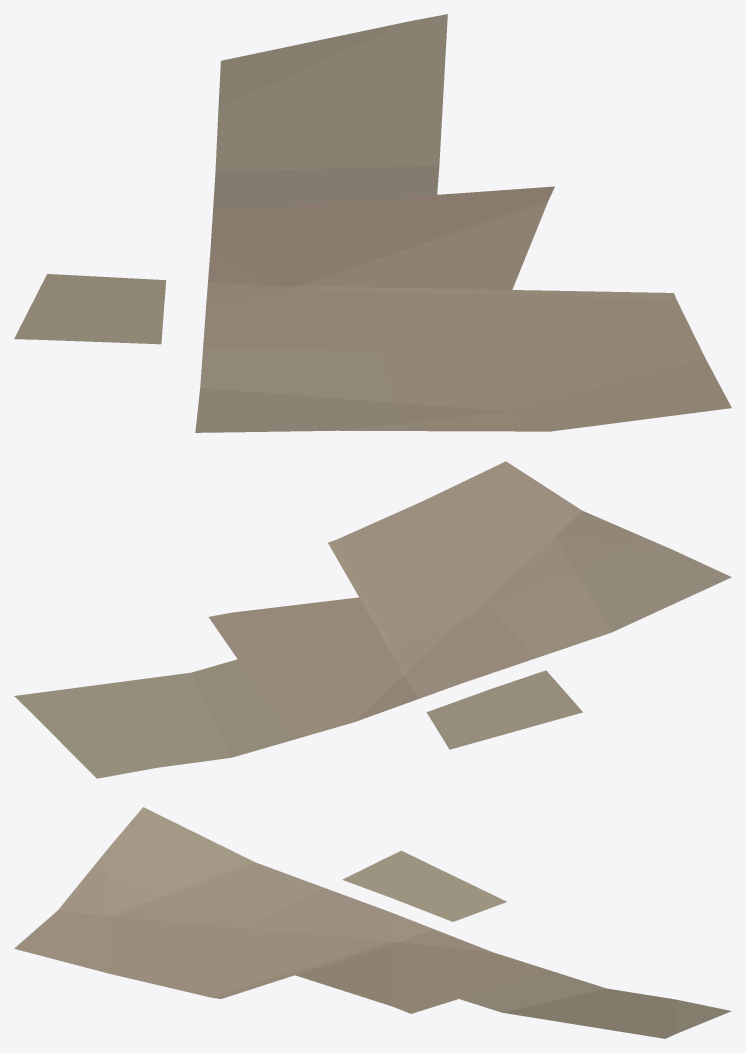
The model's file is farm_-6_-8_soil.glb.
The picture shows the model from 3 angles, top to bottom: view 1: azimuth 30°, elevation 25°; view 2: azimuth 150°, elevation 25°; view 3: azimuth 270°, elevation 25°; orthographic projection. The views are drawn at different scales.
Visible parts, largest first — view 1: geometry_0; view 2: geometry_0; view 3: geometry_0.
Part boxes in pixels (box(x1,y1,x2,y2)): geometry_0: box(14, 14, 731, 432); geometry_0: box(14, 461, 731, 778); geometry_0: box(14, 807, 731, 1038).
Bounding box in the file's own units: 138 × 19.32 × 203.
